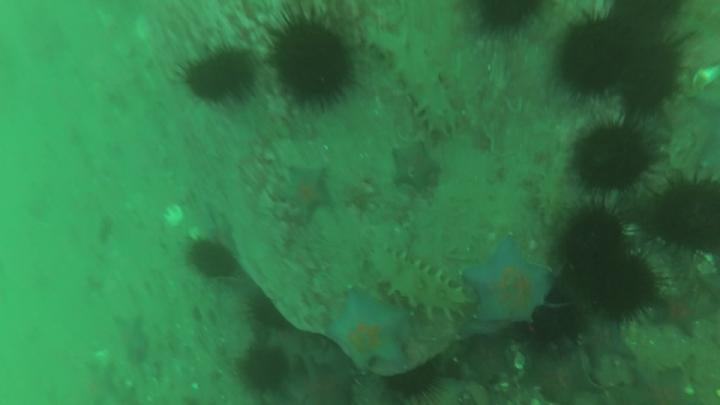echinus: (259, 5, 356, 112), (566, 119, 660, 198), (580, 249, 664, 335), (618, 34, 698, 124), (558, 8, 632, 103), (648, 177, 720, 266), (558, 202, 632, 281), (178, 43, 255, 111), (471, 1, 552, 42), (379, 358, 445, 405), (238, 344, 292, 396), (182, 238, 242, 284), (607, 1, 691, 33), (245, 290, 294, 332)
holothurian: (363, 26, 459, 145), (365, 246, 471, 325), (533, 137, 575, 233)
starfish: (467, 239, 558, 328), (318, 293, 415, 375), (279, 165, 336, 225), (390, 140, 440, 192)
